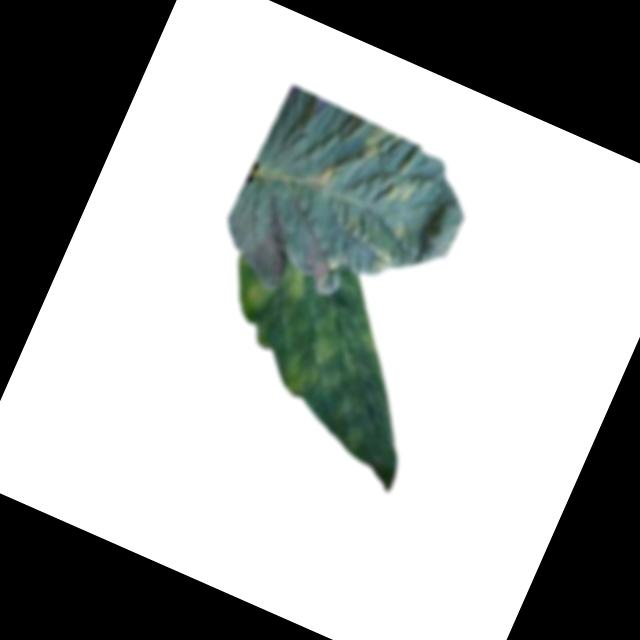Leaf_Mold: (303, 308, 361, 375), (354, 121, 405, 172), (272, 257, 318, 306), (380, 167, 424, 212), (278, 354, 321, 400), (306, 156, 344, 196), (361, 241, 399, 279), (239, 277, 275, 314), (382, 213, 414, 247)
